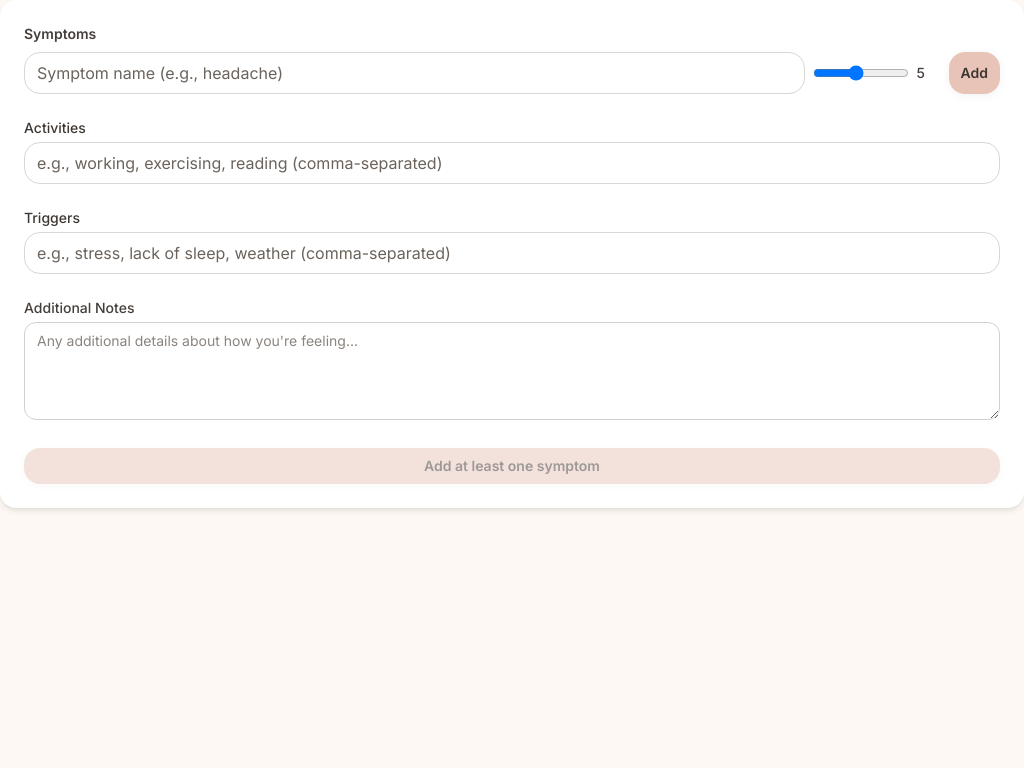
Test case: ManualCheckInForm › should remove symptom
Type "headache" into the field with placeholder "Symptom name (e.g., headache)".
click(414, 73); type("headache")  # box [24,52,804,94]
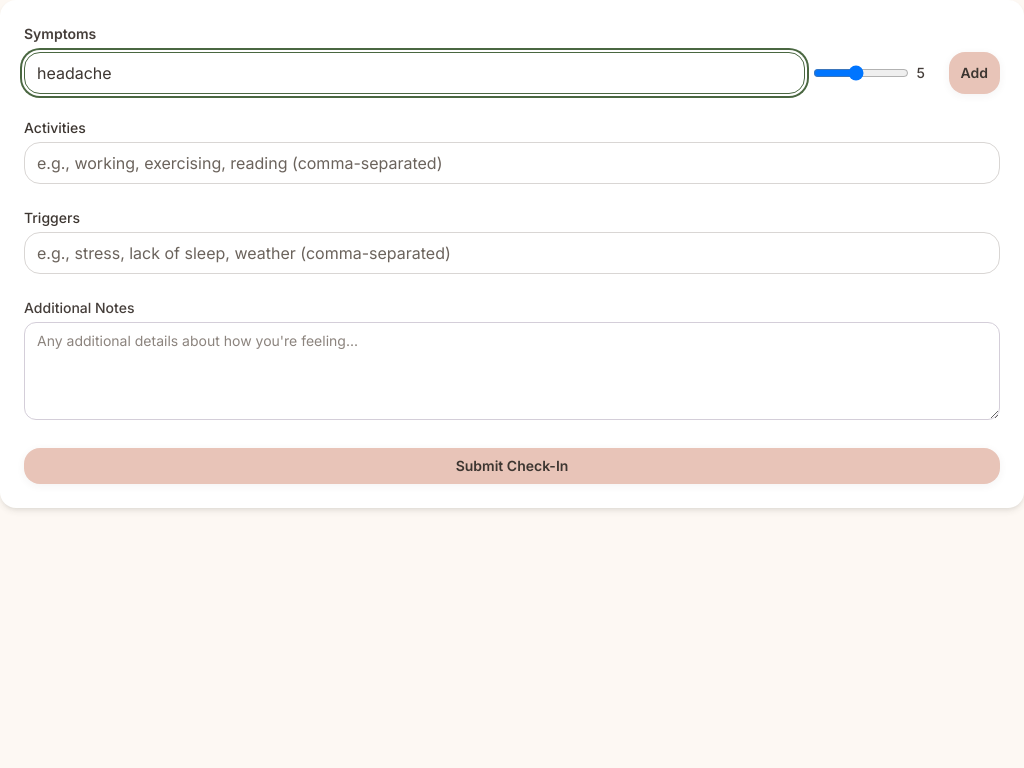
Click the button with aria-label "add symptom".
click(974, 73)  # box [948,52,1000,94]
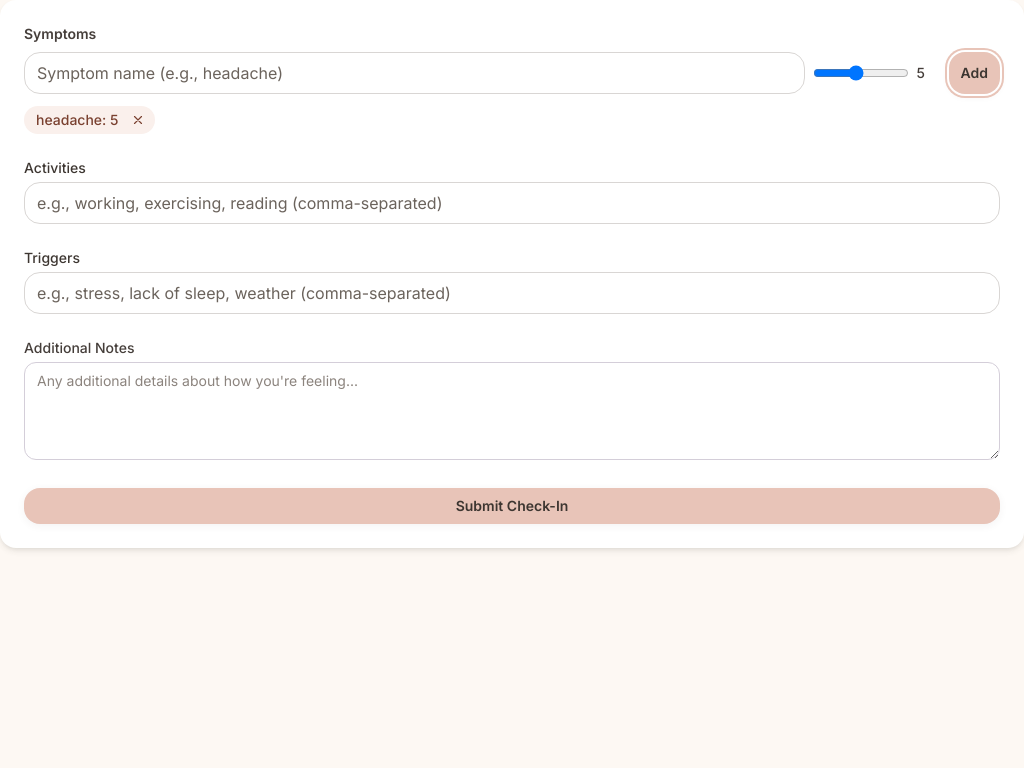
Check: the text "headache: 5" is shown, box [36,110,118,130]
Click the button named "remove".
click(138, 120)  # box [128,111,146,129]
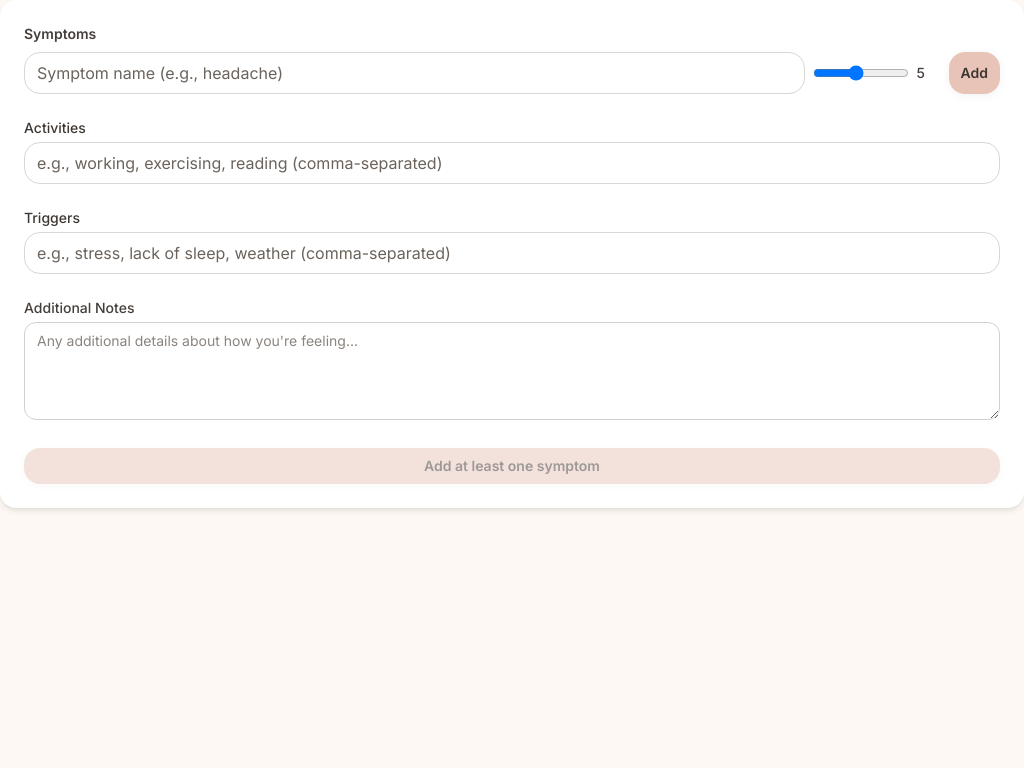
Check: the text "headache: 5" is gone
